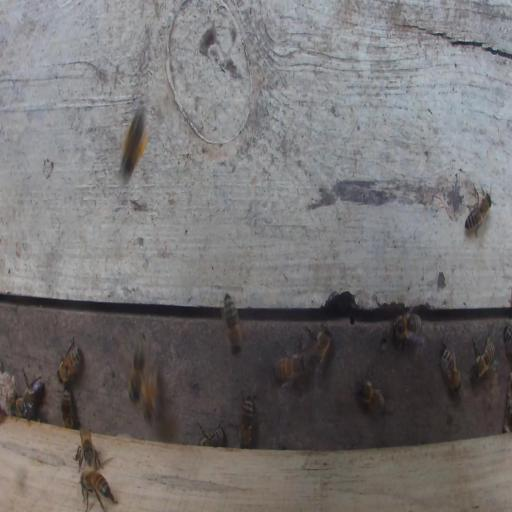bee: (118, 106, 149, 184), (80, 466, 115, 511), (129, 335, 148, 402), (76, 426, 101, 471), (224, 291, 241, 356), (308, 325, 332, 371), (358, 379, 385, 419), (465, 192, 493, 230), (471, 339, 496, 381), (57, 347, 83, 385), (440, 347, 461, 394), (142, 366, 157, 429), (392, 312, 422, 340), (274, 354, 305, 380), (239, 396, 253, 449), (9, 396, 35, 419), (24, 377, 45, 405), (61, 387, 73, 430), (201, 425, 223, 448), (503, 326, 512, 357)
